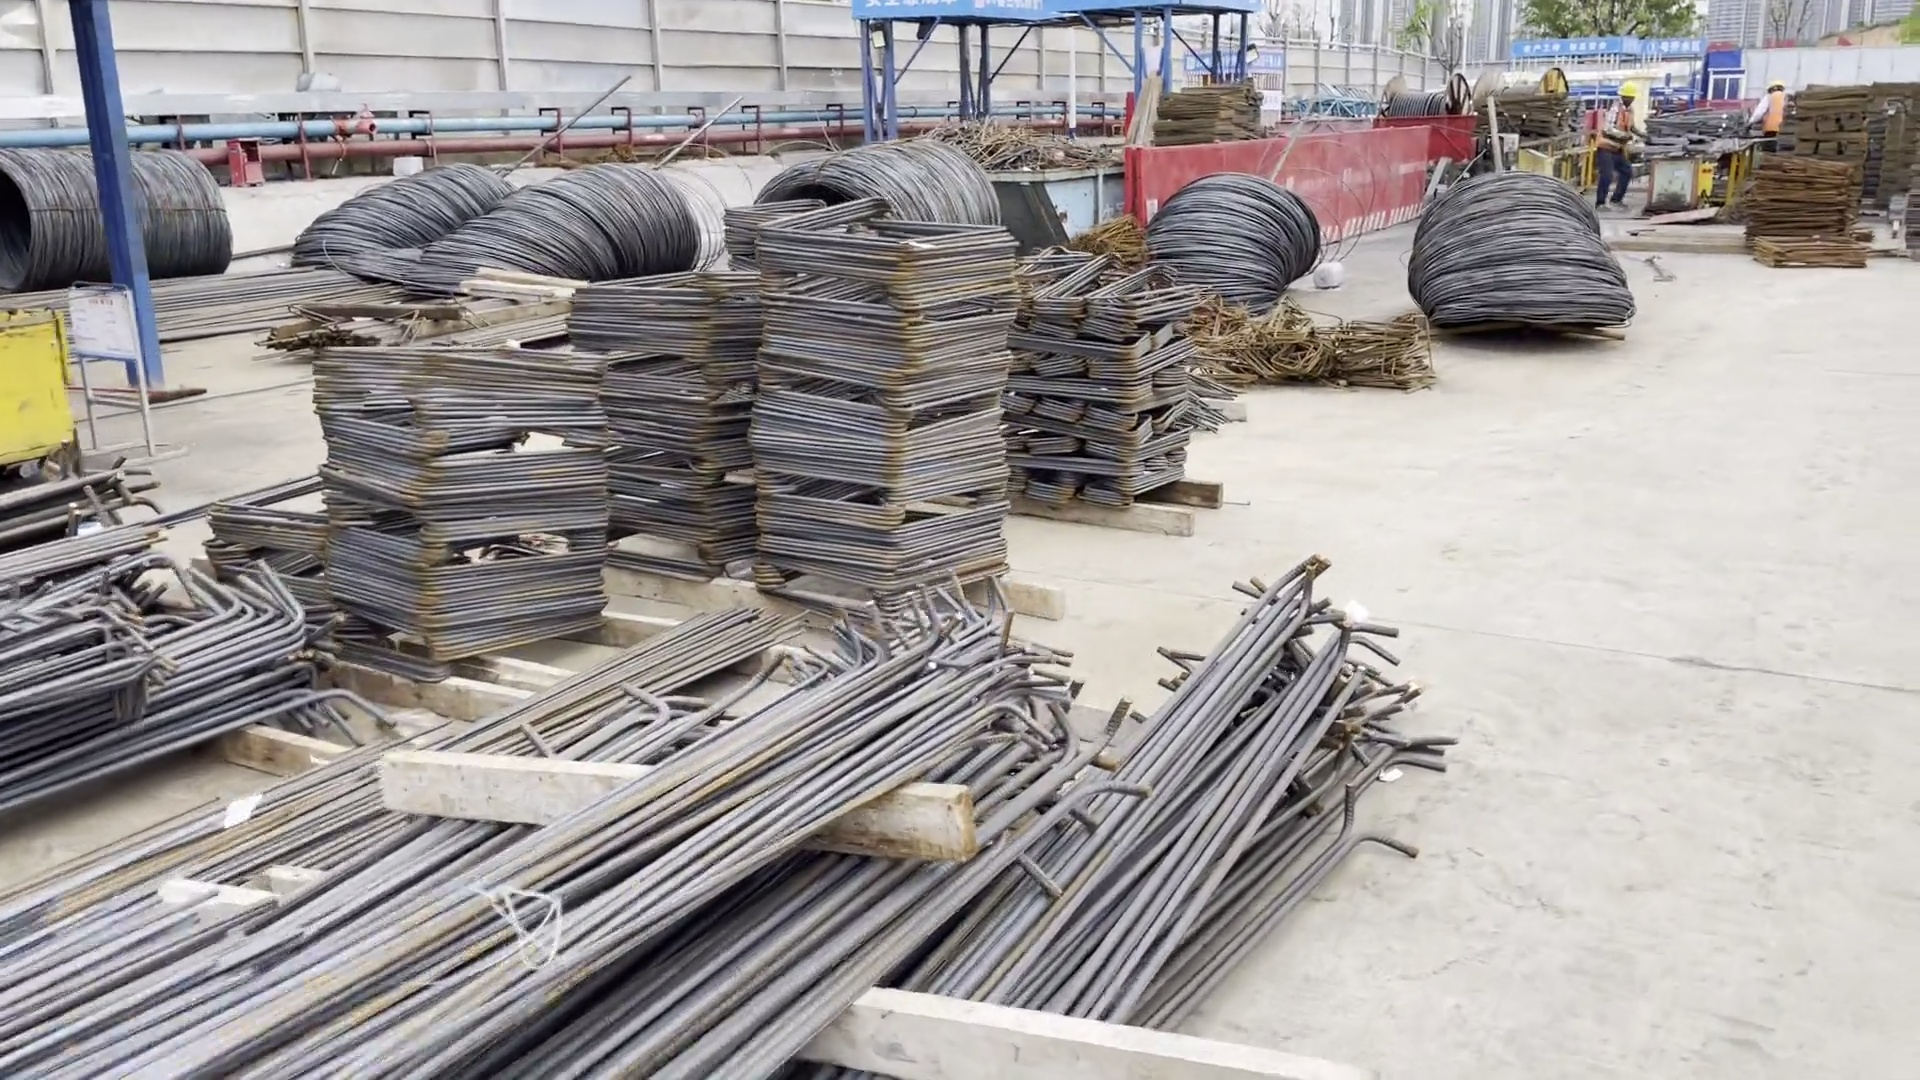cutter: (1, 299, 102, 503), (1626, 147, 1719, 216)
fence: (1106, 123, 1444, 243), (1379, 111, 1485, 177)
helmet: (1607, 78, 1640, 98), (1765, 78, 1794, 91)
hopper: (973, 155, 1123, 246)
person: (1596, 74, 1651, 211), (1740, 68, 1788, 157)
rebar: (2, 576, 1482, 1080), (1, 505, 349, 820)
slogan: (838, 4, 1281, 55), (63, 272, 176, 376), (1503, 19, 1698, 72)
vest: (1590, 99, 1651, 164), (1752, 95, 1799, 145)
